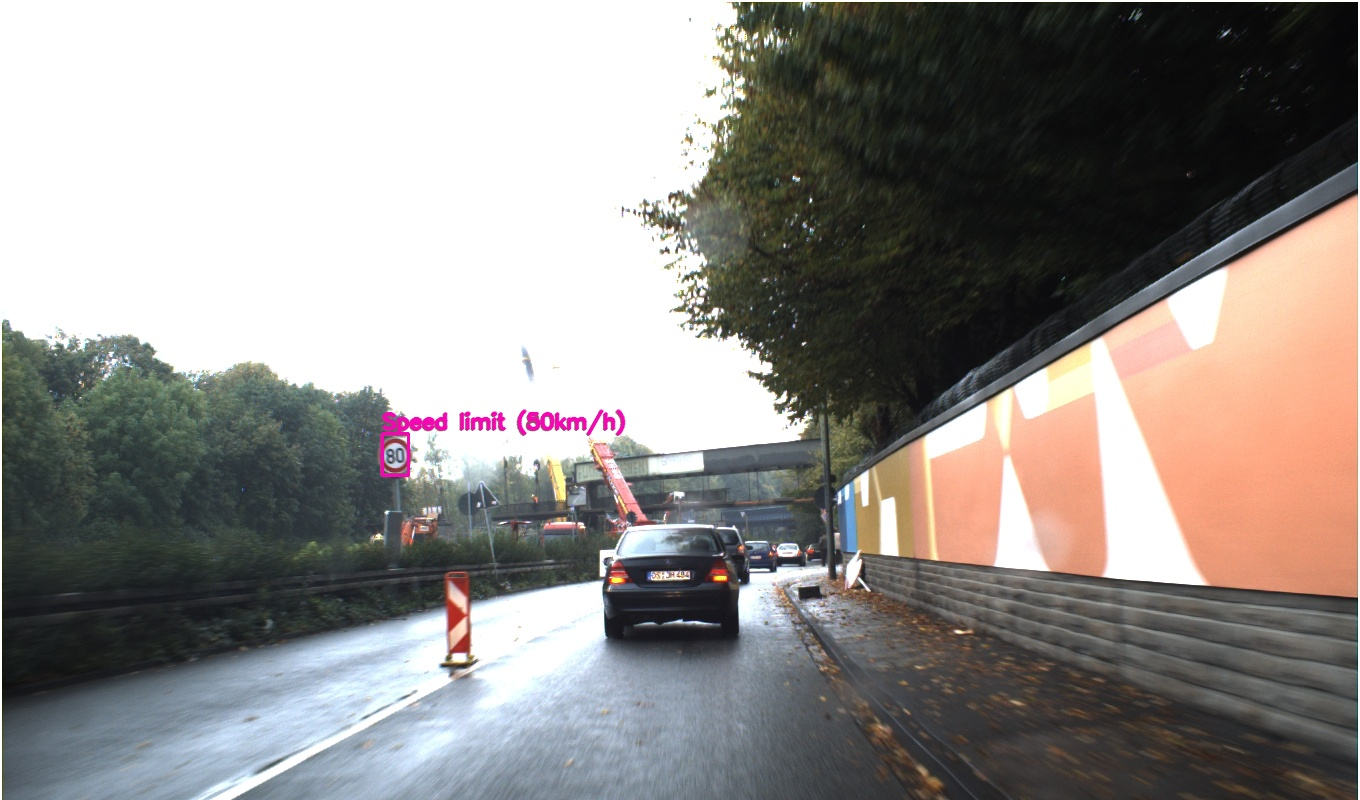Priority road: (944, 298, 1007, 361)
